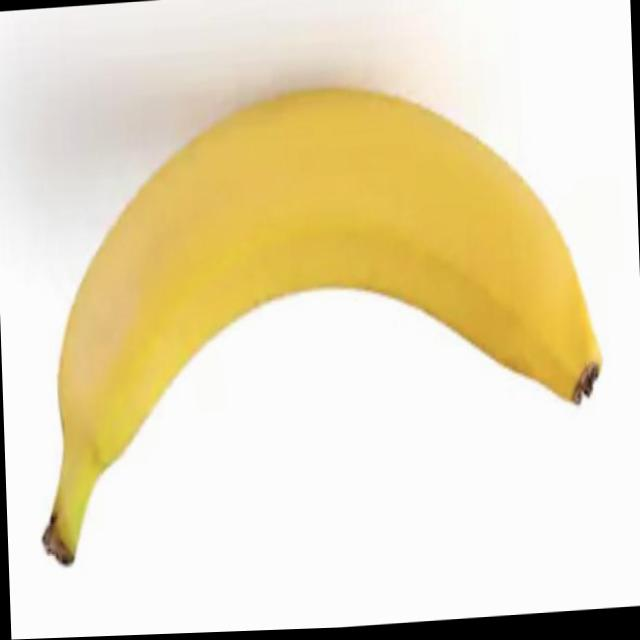Banana: (26, 71, 610, 571)
